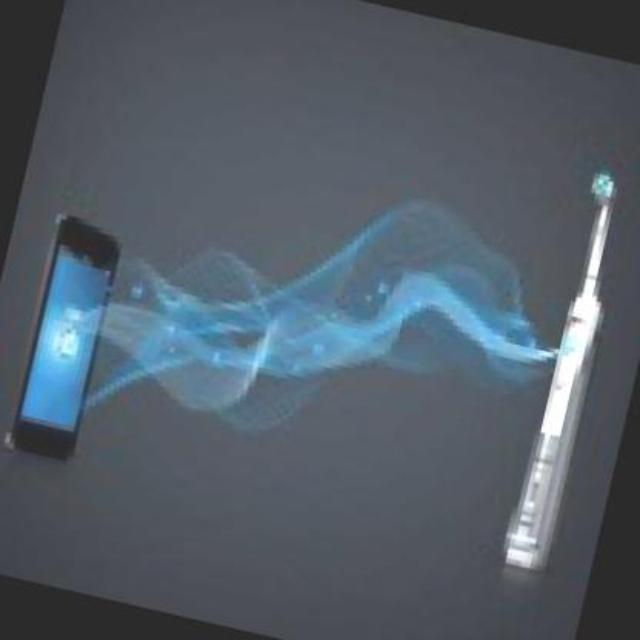toothbrush: (458, 145, 638, 603)
